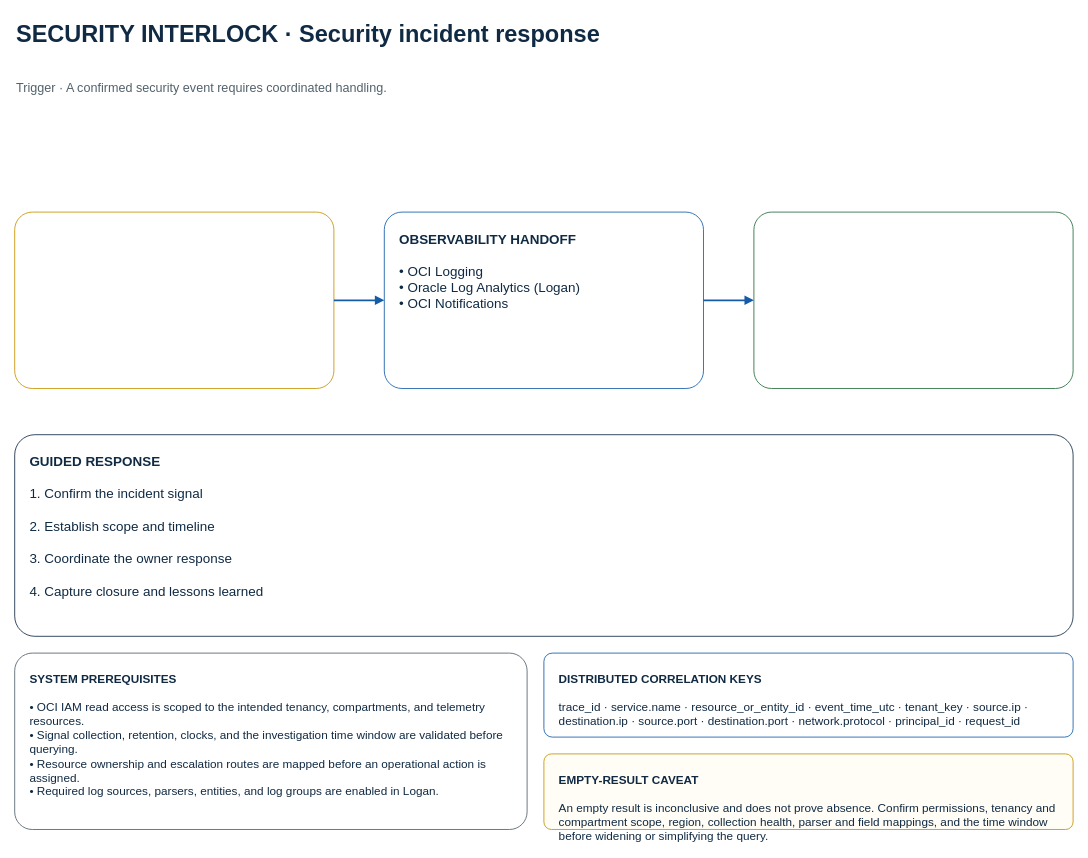
This 1088x858 diagram has some shape labels left out. Here are the shapes that lost their labels. From the top down, the box of each, then its label:
(14, 211, 334, 388): SOURCE EVIDENCE • Security finding • Audit events • Network and application logs
(753, 211, 1073, 388): OPERATIONAL OUTCOME • Move from detection to a documented, measurable response.
